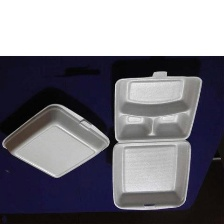foam_box: (108, 66, 206, 213), (0, 100, 113, 182)
